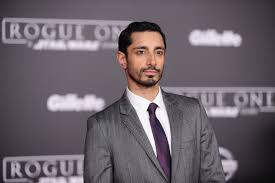middle_eastern_male: (118, 23, 171, 92)
